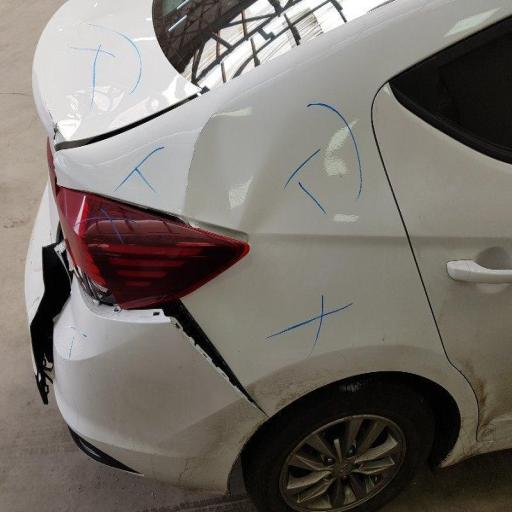broken: (20, 156, 248, 468)
scratch: (60, 16, 362, 195)
